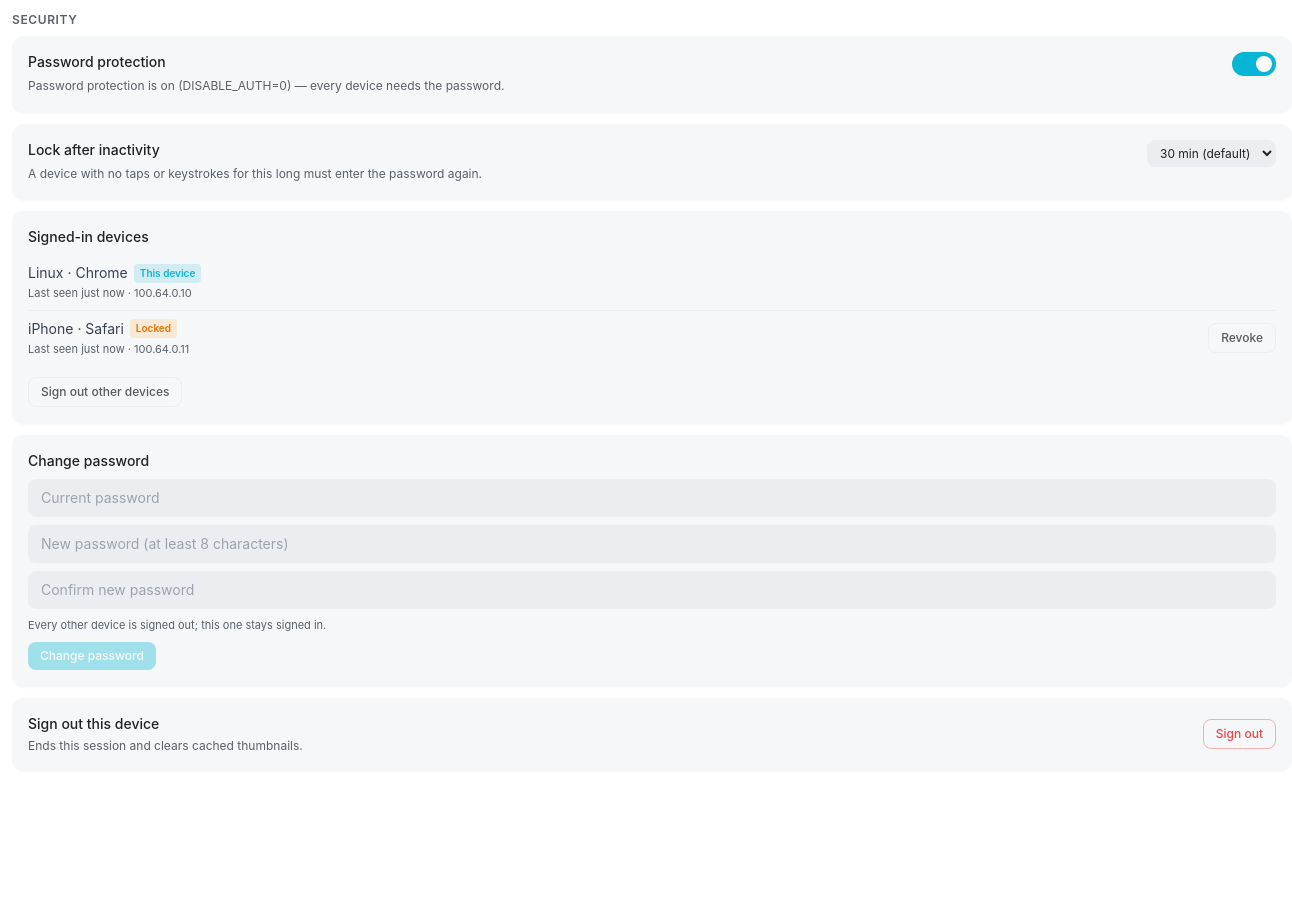
SecuritySettings › an invalid idle value shows the server's message
The image size is (1292, 912).
Select "60 min" in the dropdown named "Idle timeout" at point(1212, 153), box [1147,140,1276,166]
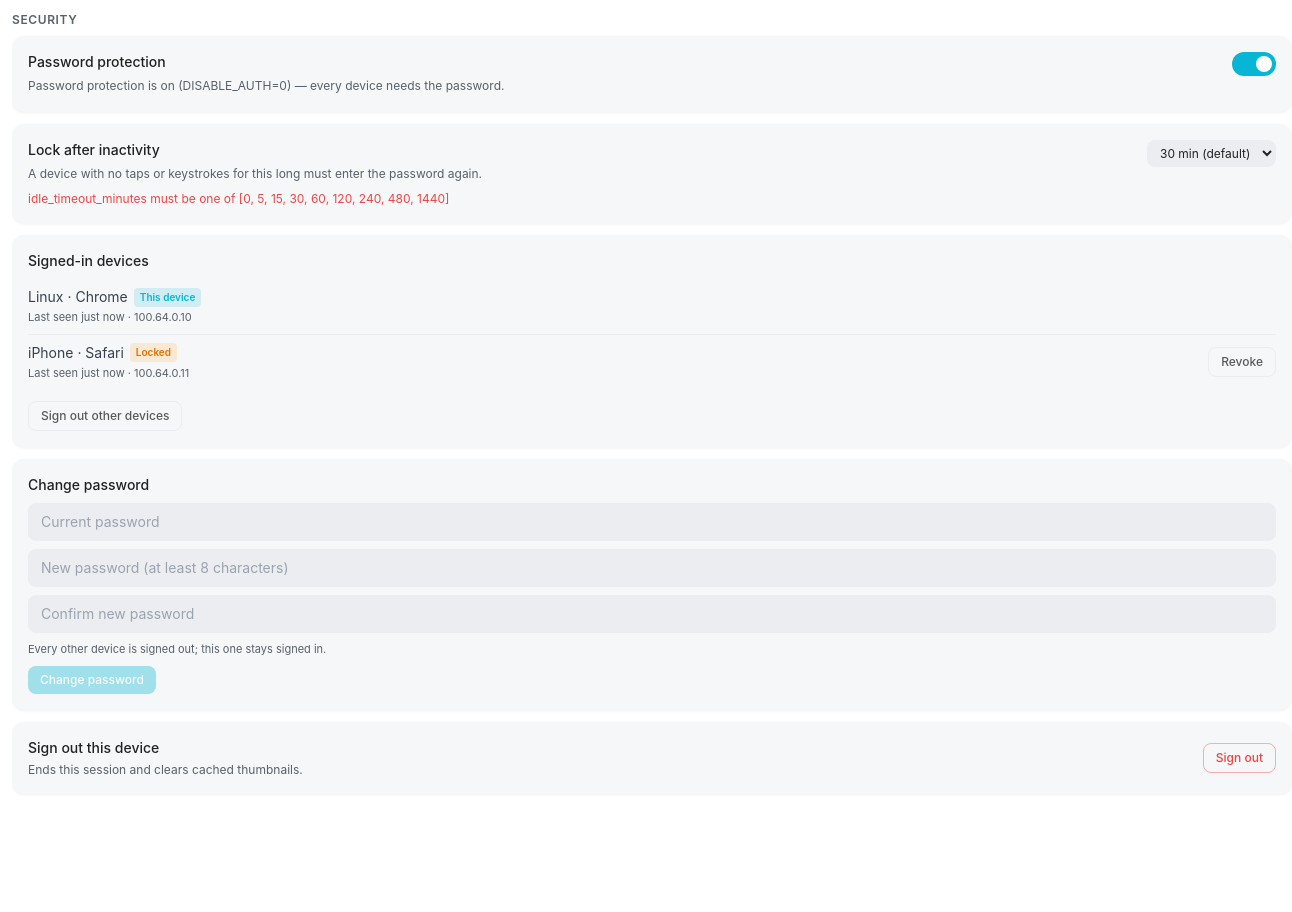
Result: the text "must be one of" is shown at [28,191,449,206]
